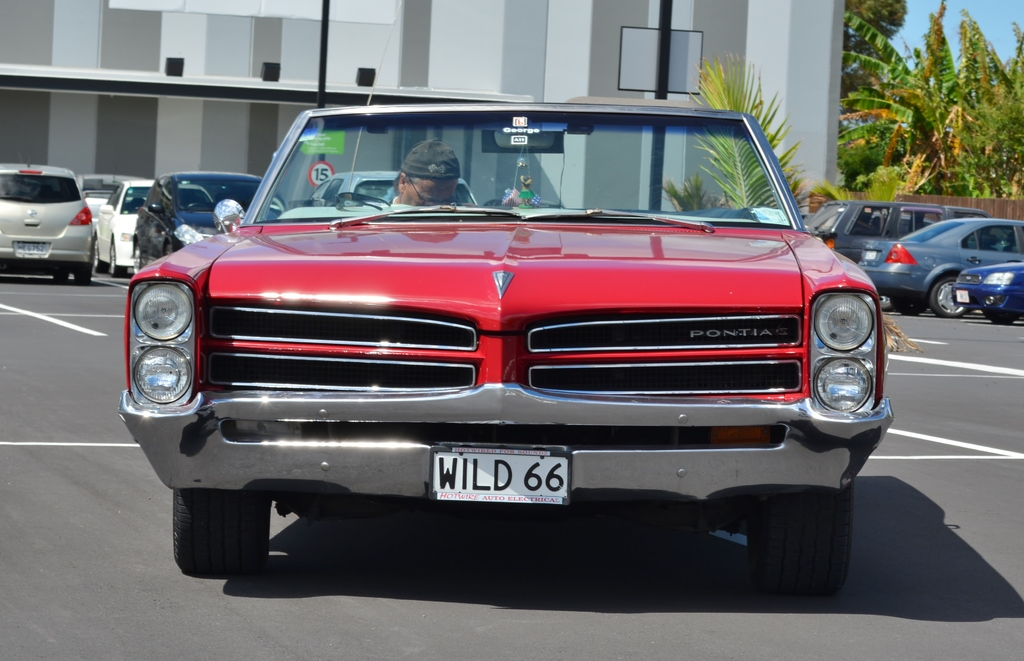Person: (384, 131, 469, 212)
